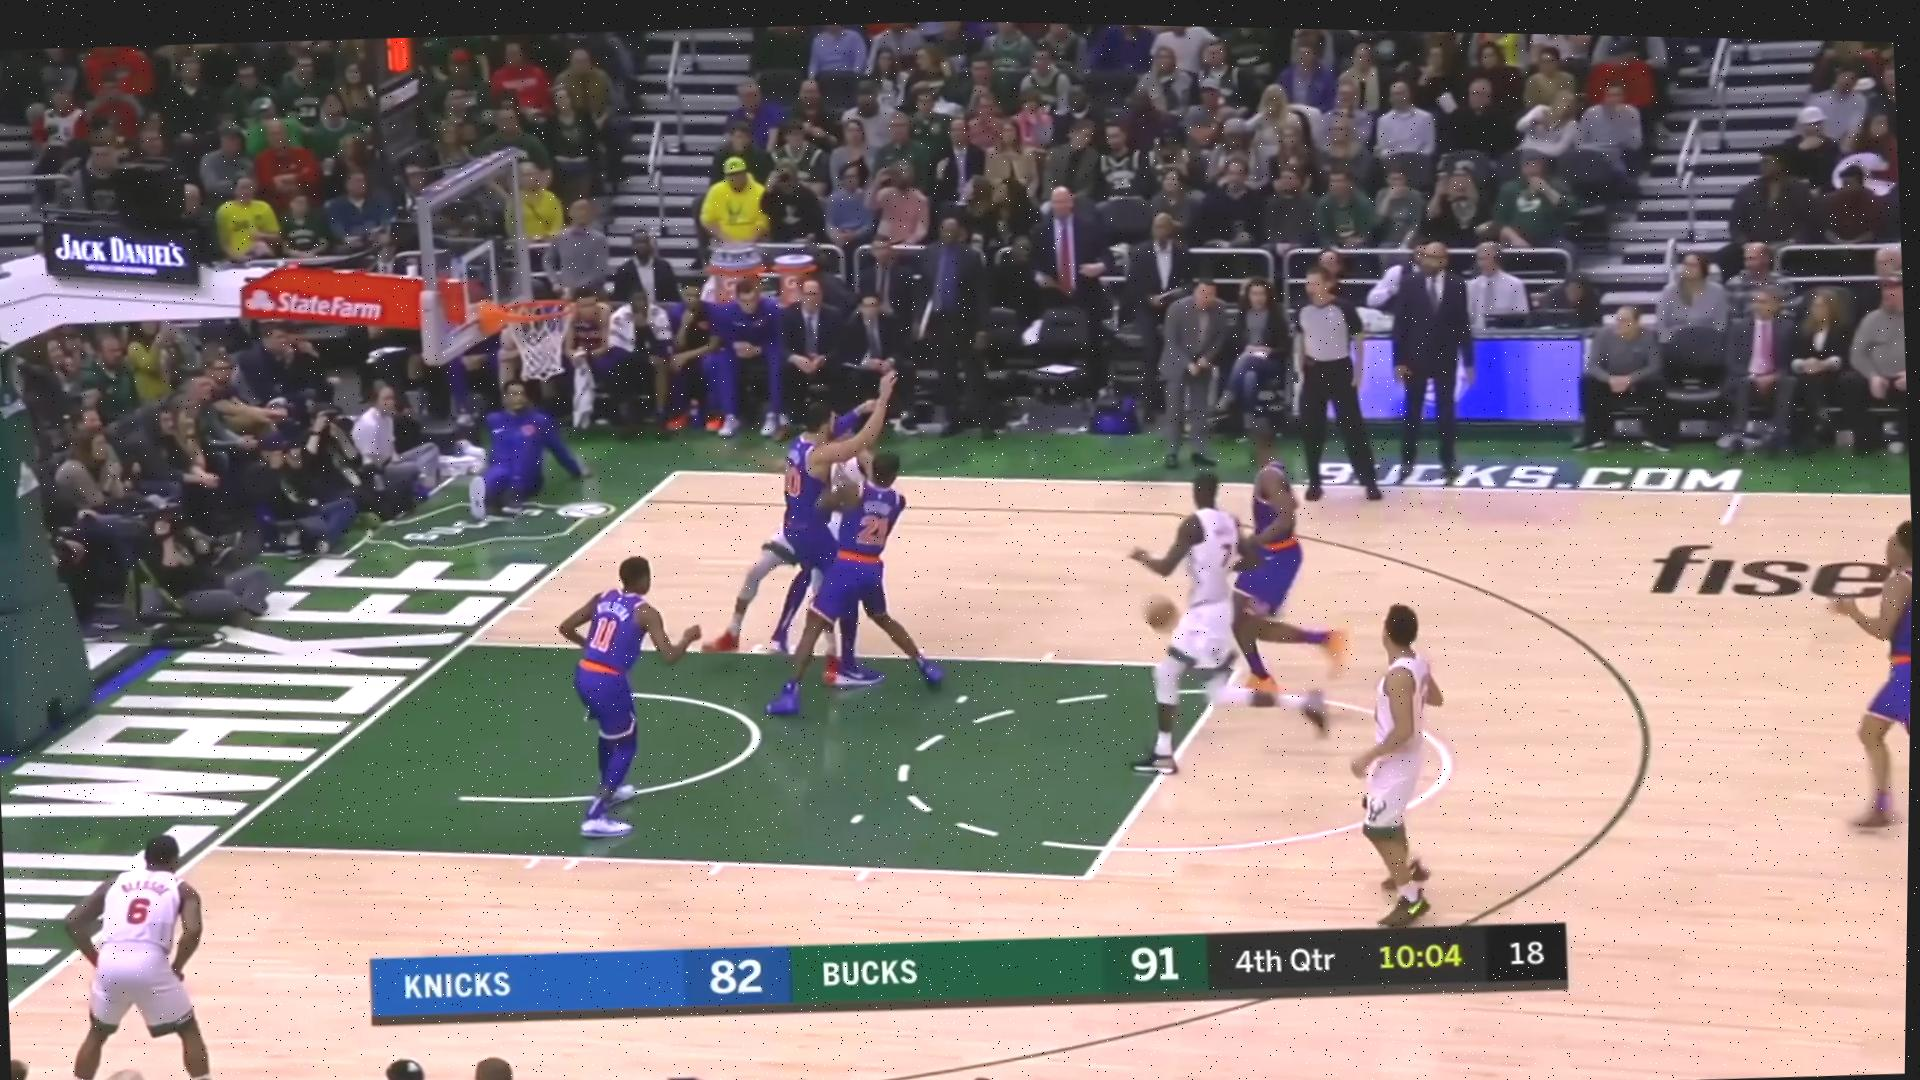foul: (719, 384, 971, 696)
